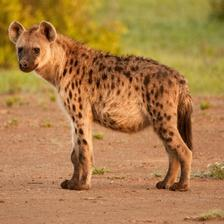hyena: (5, 13, 208, 200)
